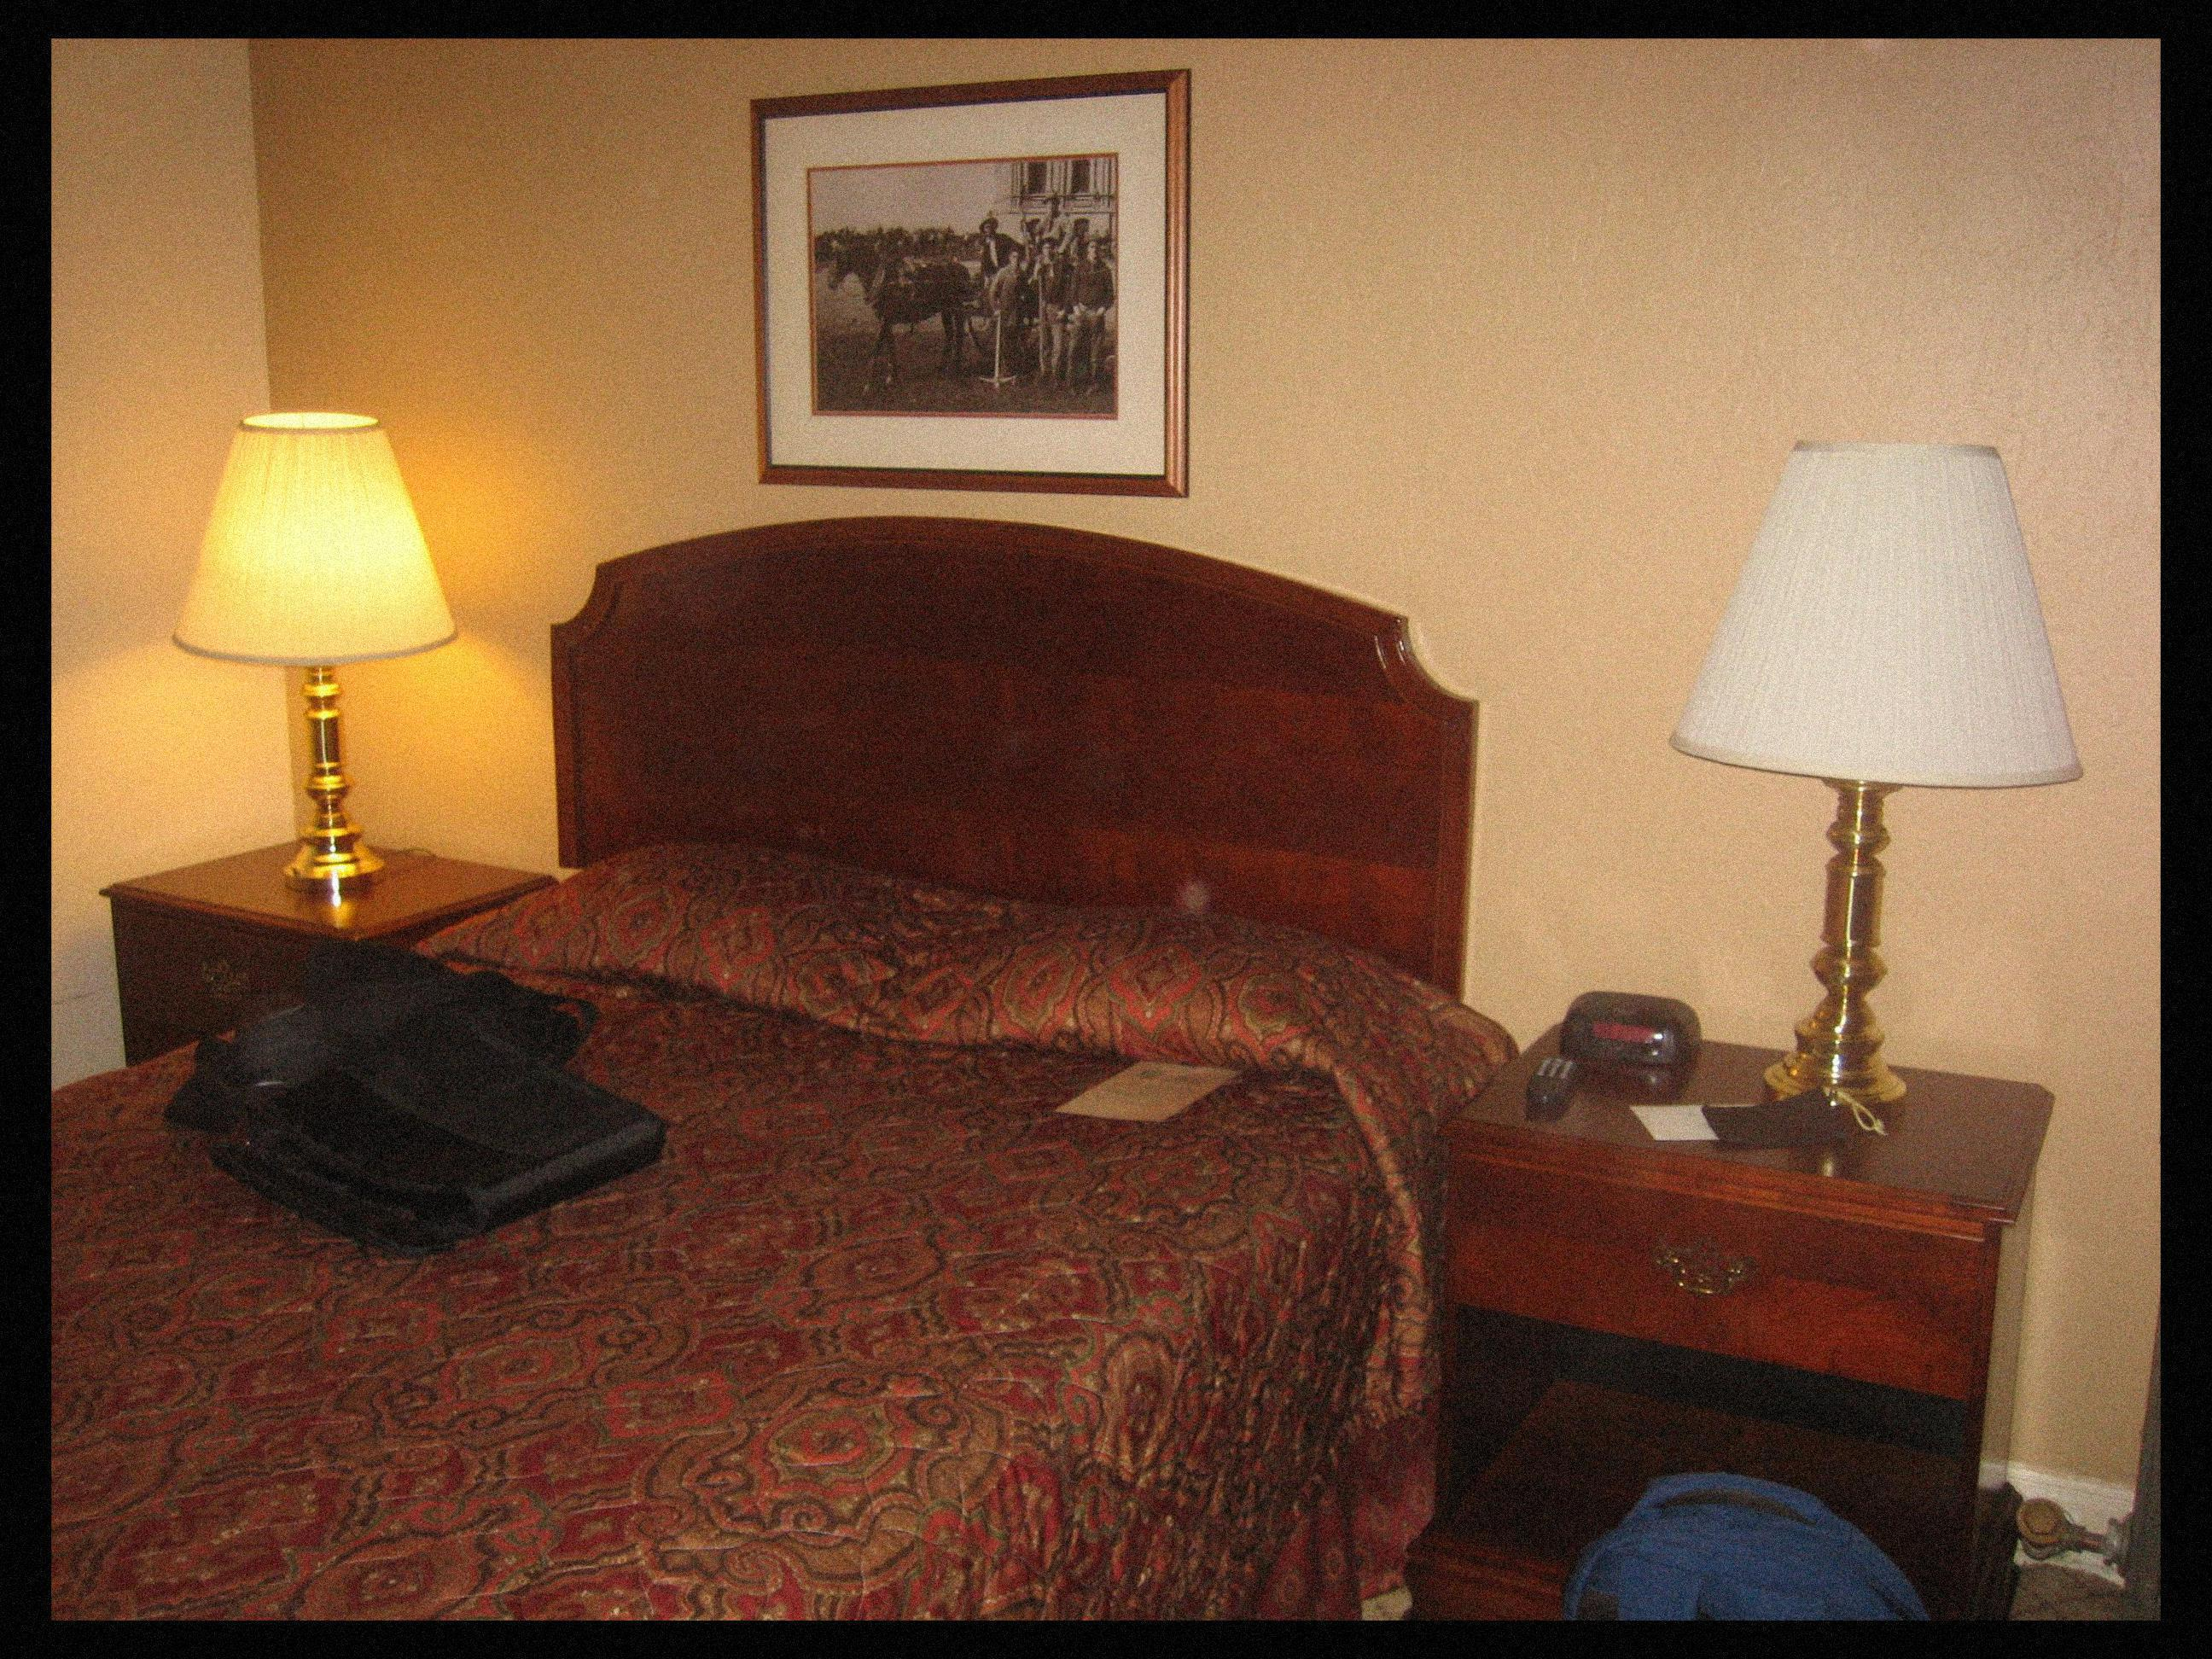Bote de Basura: (54, 545, 1465, 1617)
Otro Obstaculo: (1580, 1455, 1933, 1603)
